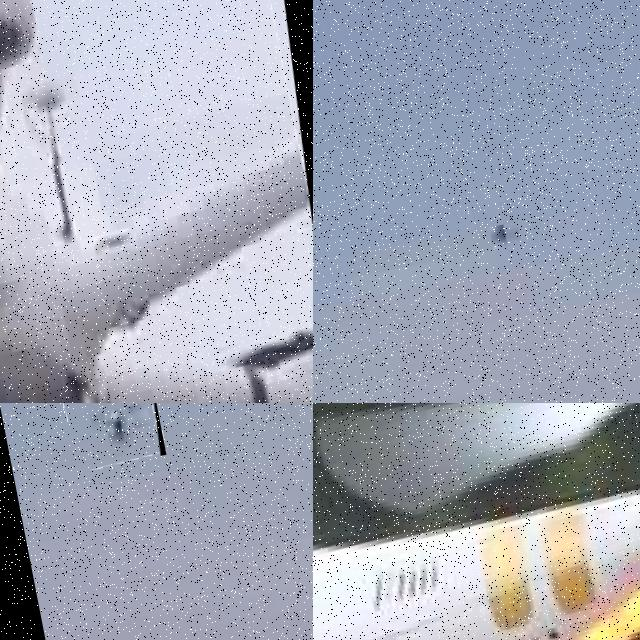drone: (0, 0, 313, 403), (313, 403, 640, 640), (61, 403, 167, 472)
